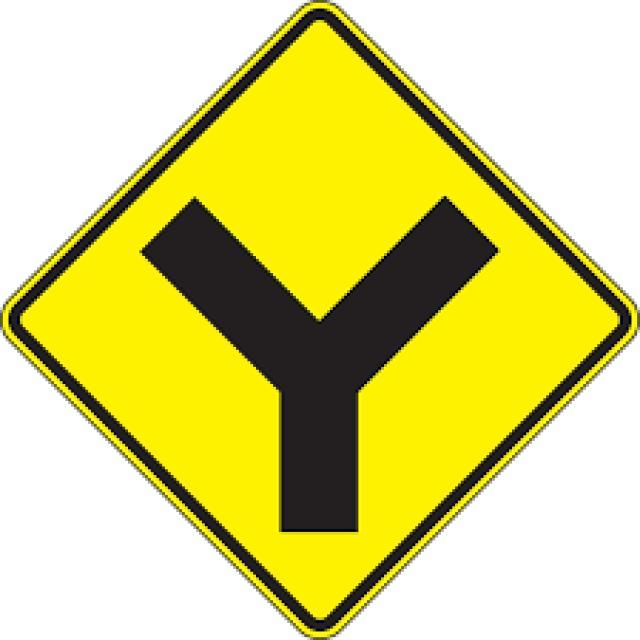y intersection: (23, 26, 615, 617)
